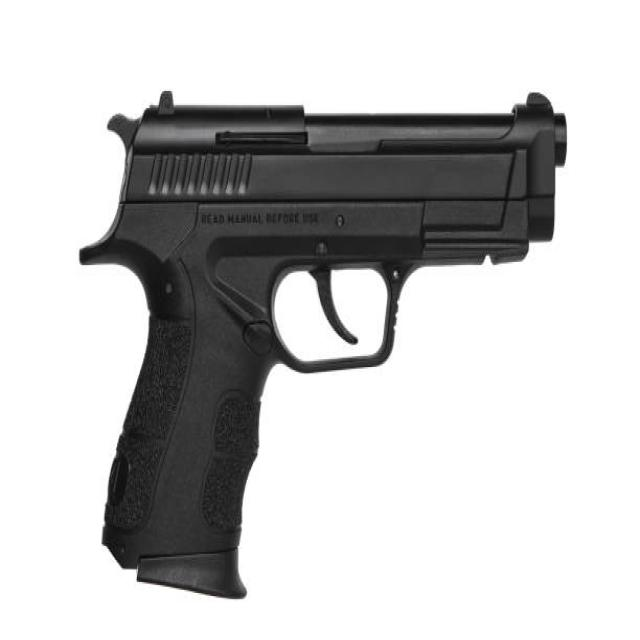pistol: (78, 84, 582, 605)
